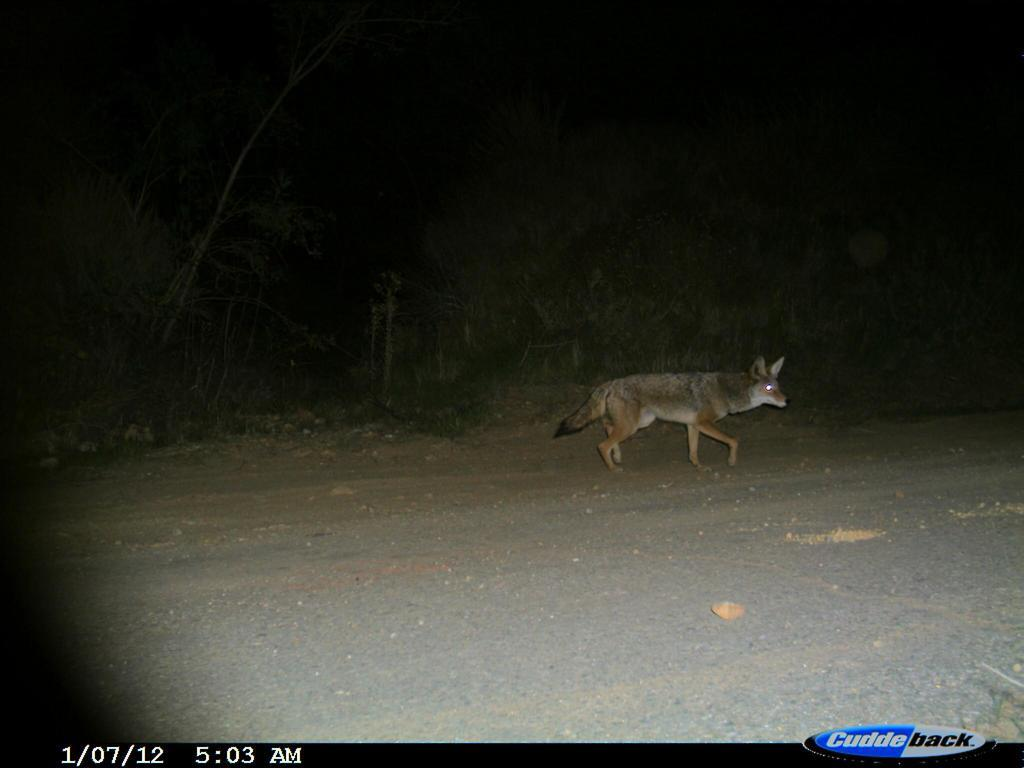coyote: (547, 345, 801, 486)
